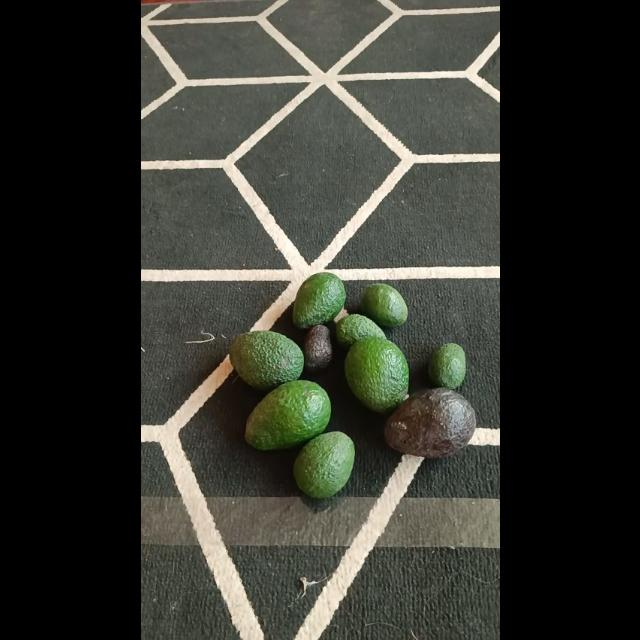Primera: (383, 387, 473, 457), (244, 380, 330, 450), (344, 336, 411, 412), (228, 330, 304, 390)
Segunda: (292, 428, 354, 498), (290, 271, 346, 329)
Tercera: (358, 282, 408, 328), (427, 342, 465, 391), (334, 312, 386, 346), (302, 324, 332, 372)
